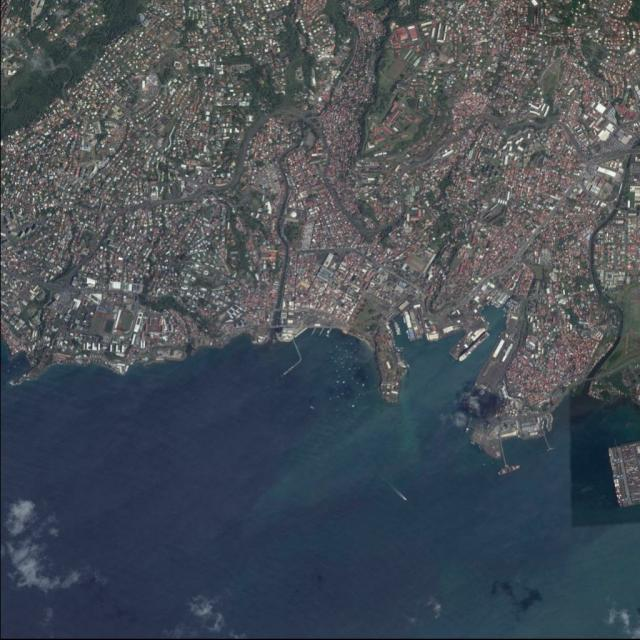ship: (498, 464, 521, 476), (499, 441, 508, 468), (542, 434, 552, 451), (394, 322, 401, 336)
